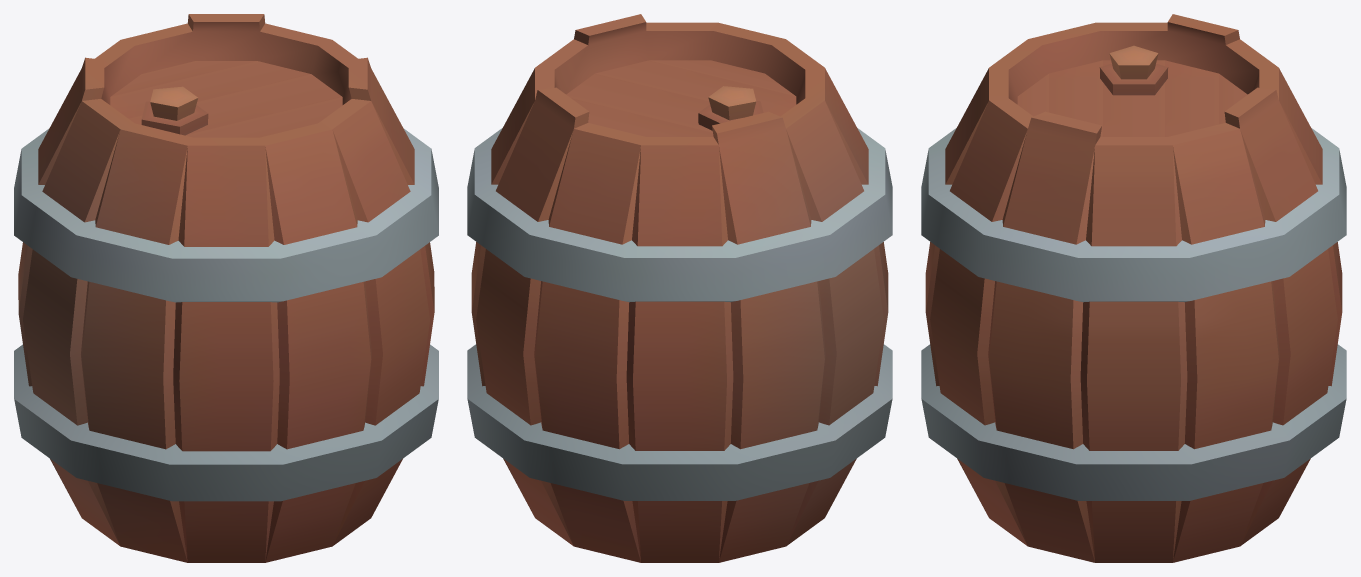
Rendered from d_barrel_large.glb.
The picture shows the model from 3 angles, left to right: view 1: azimuth 30°, elevation 25°; view 2: azimuth 150°, elevation 25°; view 3: azimuth 270°, elevation 25°; orthographic projection.
Visible parts, largest first — view 1: barrel_large; view 2: barrel_large; view 3: barrel_large.
Part boxes in pixels (x1,y1,x2,y2): barrel_large: (14,14,438,562); barrel_large: (467,14,892,562); barrel_large: (921,14,1346,562).
Size of the model in its own units: 1.8 by 2 by 1.8.
Materials: 1 (1 with a texture image).
